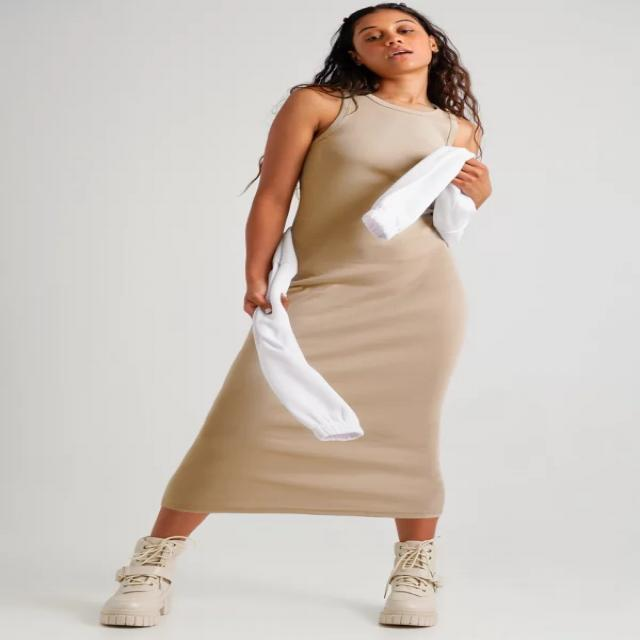clothes: (164, 68, 507, 541)
